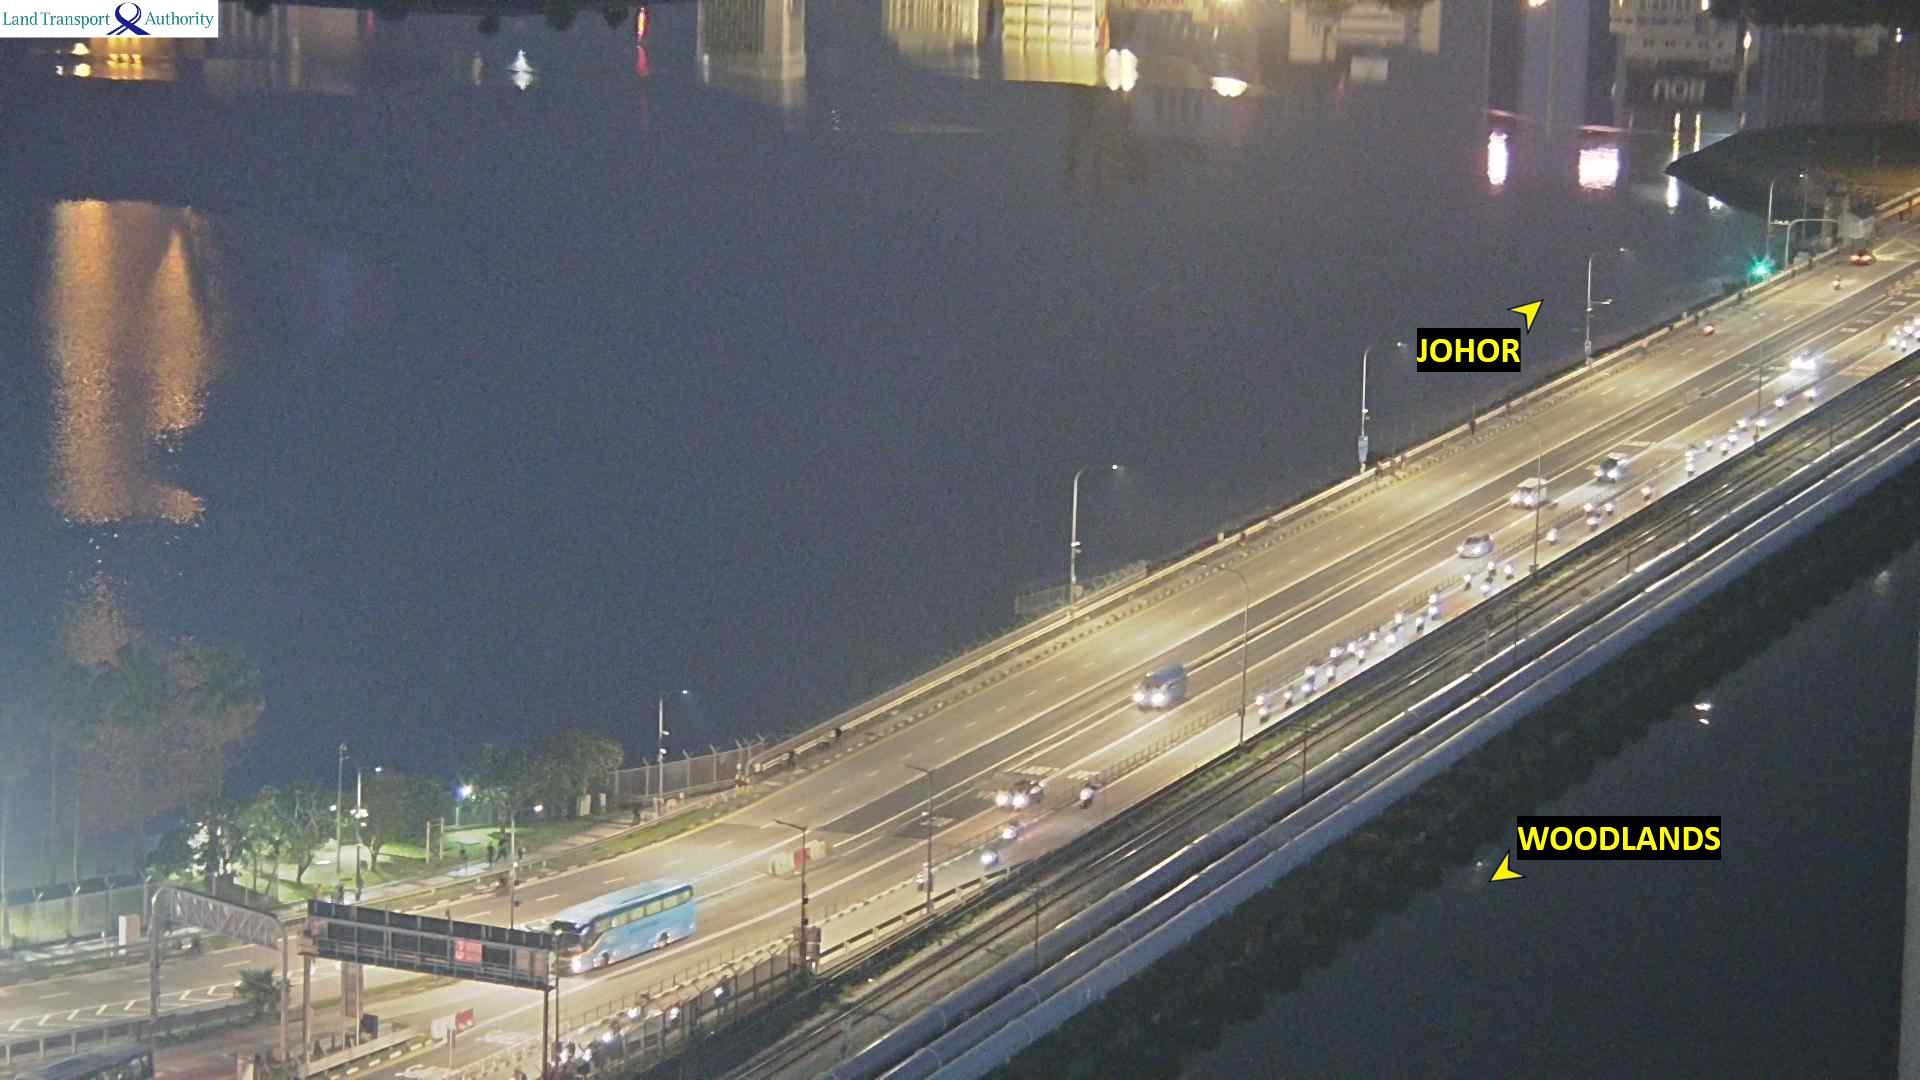vehicle-causeway-johor: (1850, 249, 1875, 264), (1702, 324, 1715, 337), (1833, 273, 1842, 291)
vehicle-causeway-singapore: (549, 882, 702, 962), (1136, 664, 1187, 708), (997, 781, 1044, 809), (1592, 453, 1629, 485), (1509, 479, 1547, 508), (1460, 533, 1494, 558), (1791, 351, 1820, 372), (1080, 781, 1094, 803), (1002, 824, 1021, 839), (918, 864, 931, 885), (1394, 608, 1410, 625), (1332, 642, 1346, 659), (1461, 570, 1473, 589), (1545, 526, 1559, 542), (1686, 465, 1700, 481), (1716, 443, 1730, 459), (1485, 561, 1497, 578), (1254, 690, 1268, 704), (1284, 683, 1292, 707), (1642, 485, 1654, 501), (1326, 666, 1337, 683), (985, 851, 999, 864), (1585, 517, 1599, 530), (1686, 449, 1698, 464), (1258, 708, 1269, 723), (1506, 562, 1517, 577), (1416, 614, 1425, 632), (1429, 590, 1441, 603), (1480, 585, 1492, 598), (1603, 502, 1616, 514), (1307, 662, 1317, 677), (1303, 682, 1313, 697), (1584, 501, 1594, 515), (1772, 399, 1782, 410), (1704, 440, 1713, 452), (1728, 435, 1738, 445), (1890, 339, 1895, 352)
